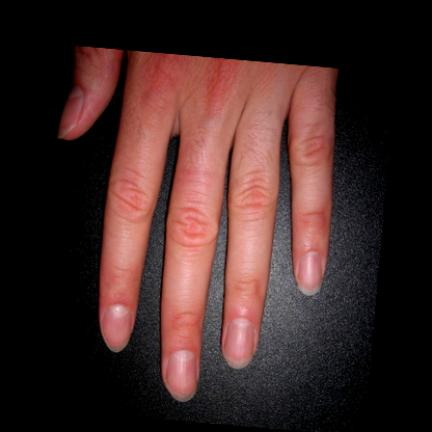Nail: (166, 351, 197, 402), (223, 318, 254, 369), (57, 87, 84, 138), (103, 306, 131, 353), (298, 251, 322, 296)
